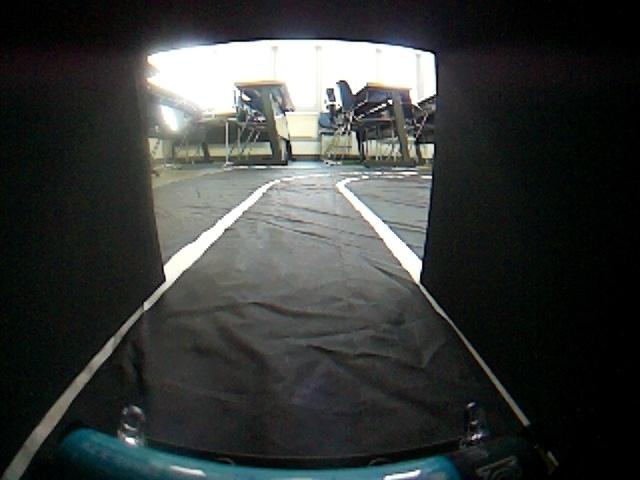go: (136, 40, 441, 301)
in_tunnel: (6, 5, 638, 474)
